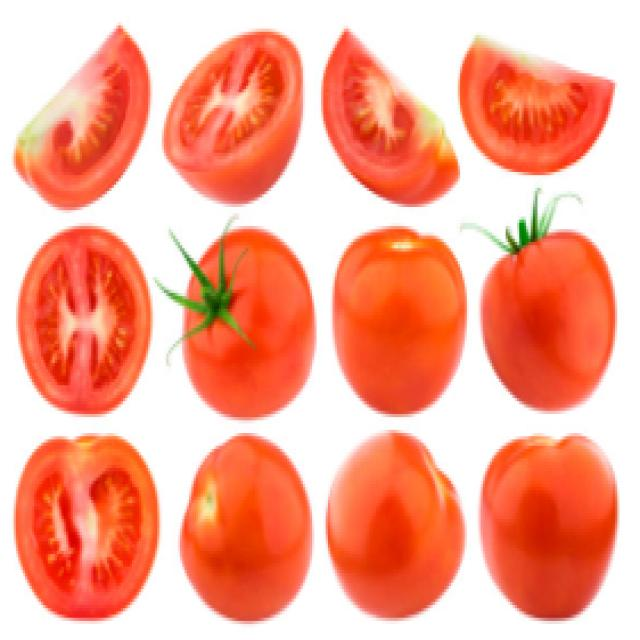Tomato: (153, 211, 324, 415), (472, 197, 622, 413), (12, 436, 170, 620), (443, 23, 628, 178), (319, 23, 459, 224), (474, 417, 619, 610), (318, 216, 462, 409), (337, 422, 473, 623), (9, 222, 151, 410), (184, 439, 325, 627), (18, 21, 155, 213), (168, 28, 306, 202)
